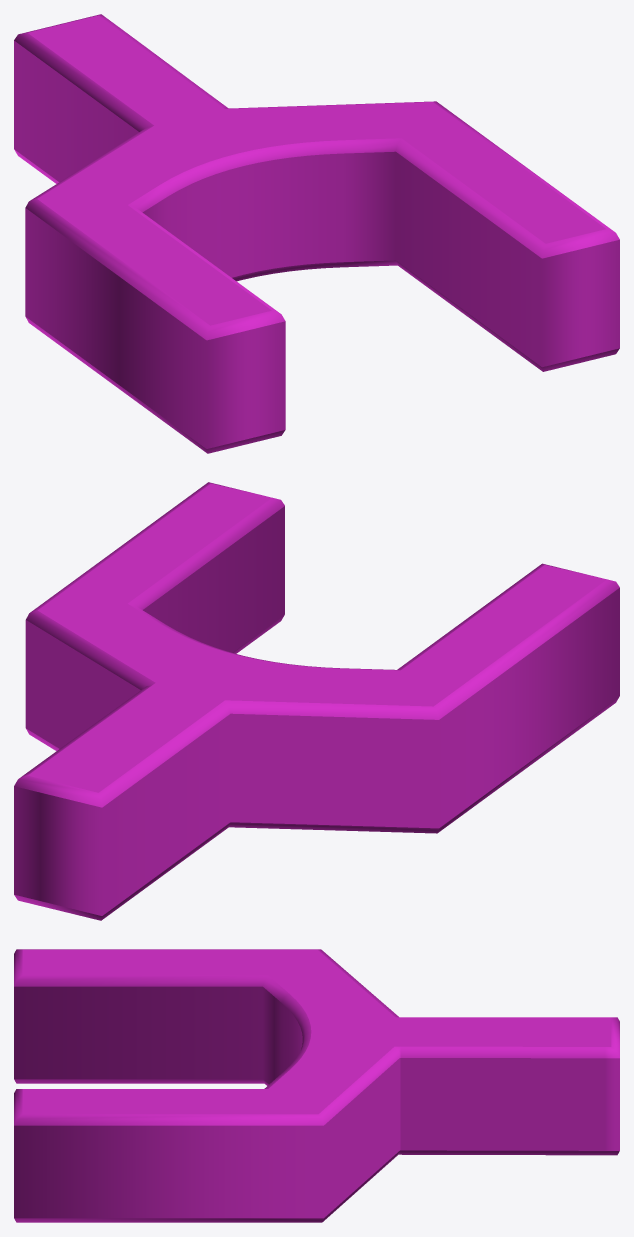
File: Letter_Y_Capital_CoolFont.fbx
3 views of the same model, one above another, from view 1: azimuth 30°, elevation 25°; view 2: azimuth 150°, elevation 25°; view 3: azimuth 270°, elevation 25° (orthographic). The views are drawn at different scales.
Visible parts, largest first — view 1: Letter_Y; view 2: Letter_Y; view 3: Letter_Y.
Part boxes in pixels (box(x1,y1,x2,y2)): Letter_Y: box(14, 14, 619, 453); Letter_Y: box(14, 482, 619, 920); Letter_Y: box(14, 949, 619, 1222).
Bounding box in the file's own units: 0.4777 × 0.14 × 0.712.
